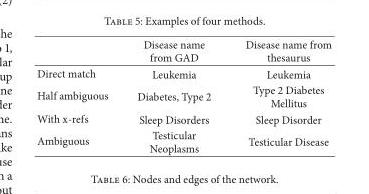table: (36, 36, 330, 155)
table column: (122, 36, 227, 155), (227, 36, 330, 155), (36, 36, 122, 155)
table column header: (36, 36, 330, 64)
table row: (36, 81, 330, 110), (36, 126, 330, 155), (36, 36, 330, 64), (36, 64, 330, 81), (36, 110, 330, 126)
